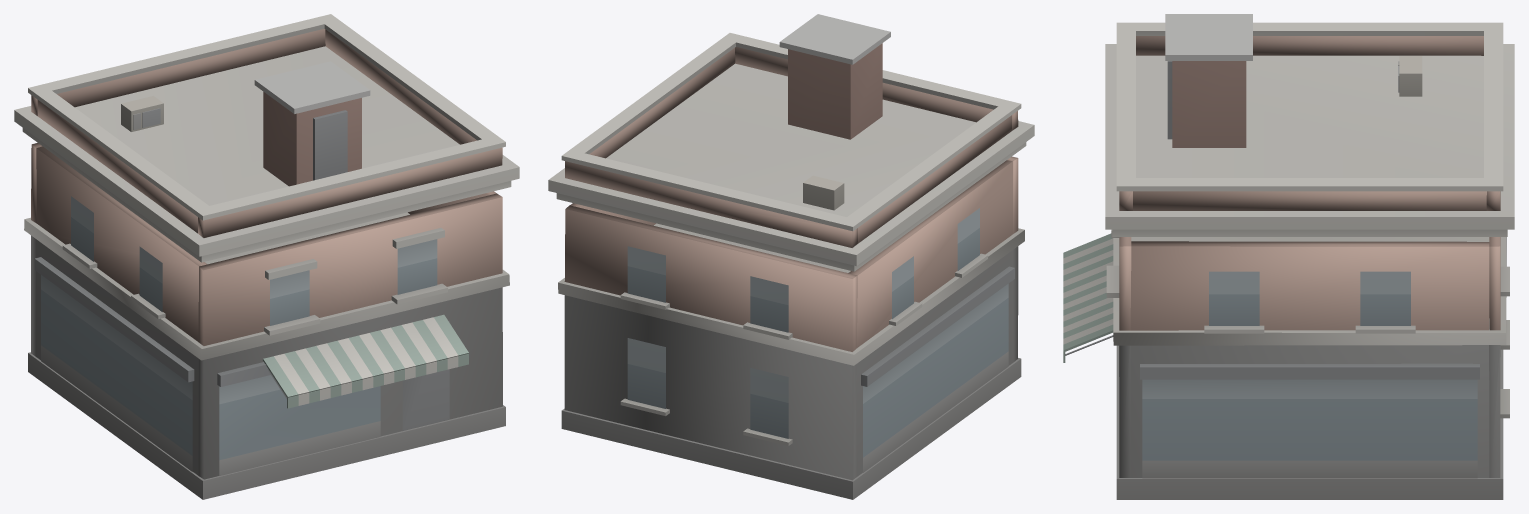
The model's file is cornershop.lod1.glb.
The picture shows the model from 3 angles, left to right: view 1: azimuth 30°, elevation 25°; view 2: azimuth 150°, elevation 25°; view 3: azimuth 270°, elevation 25°; orthographic projection. The views are drawn at different scales.
Bounding box in the file's own units: 8.85 × 9.16 × 9.76.
